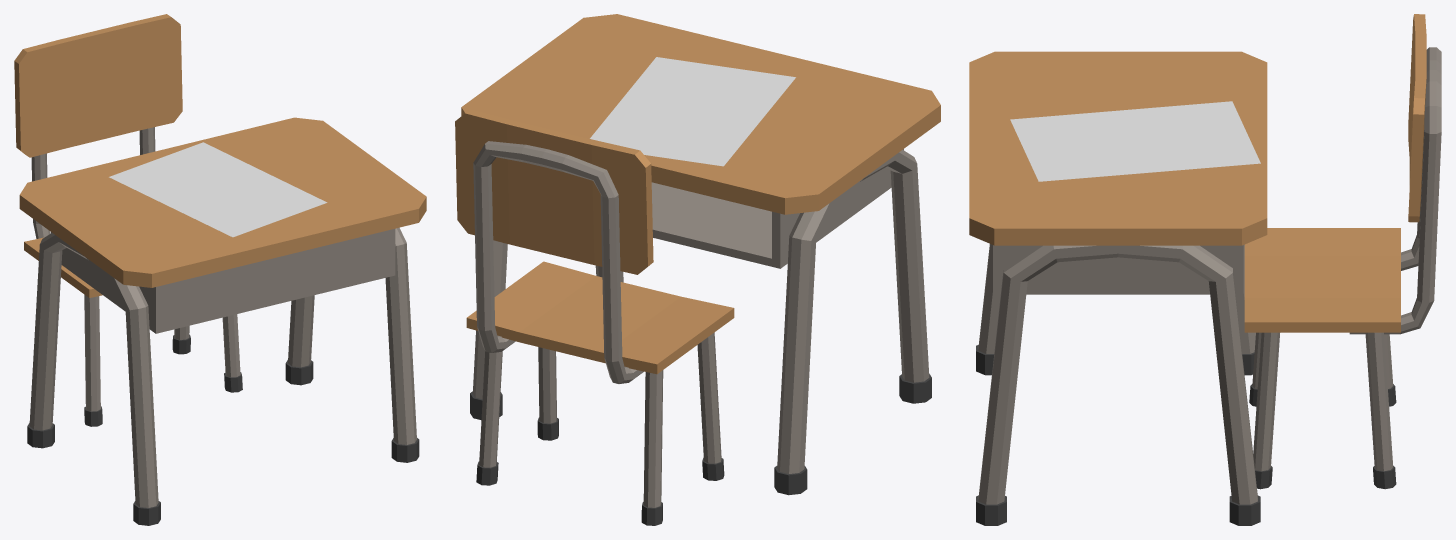
Rendered from TableChair.fbx.
The picture shows the model from 3 angles, left to right: view 1: azimuth 30°, elevation 25°; view 2: azimuth 150°, elevation 25°; view 3: azimuth 270°, elevation 25°; orthographic projection. The views are drawn at different scales.
Parts seen in each view (by area): view 1: Table.012, Chair.012, Test.012; view 2: Table.012, Chair.012, Test.012; view 3: Table.012, Chair.012, Test.012.
Boxes of the visible parts, left/top/right/bottom form: Table.012: left=19, top=117, right=426, bottom=525; Chair.012: left=14, top=14, right=242, bottom=426; Test.012: left=109, top=142, right=327, bottom=237; Table.012: left=461, top=14, right=940, bottom=495; Chair.012: left=455, top=109, right=734, bottom=525; Test.012: left=590, top=57, right=795, bottom=166; Table.012: left=969, top=51, right=1267, bottom=525; Chair.012: left=1244, top=14, right=1441, bottom=489; Test.012: left=1010, top=101, right=1260, bottom=181.
Bounding box in the file's own units: 90 × 91.99 × 101.
